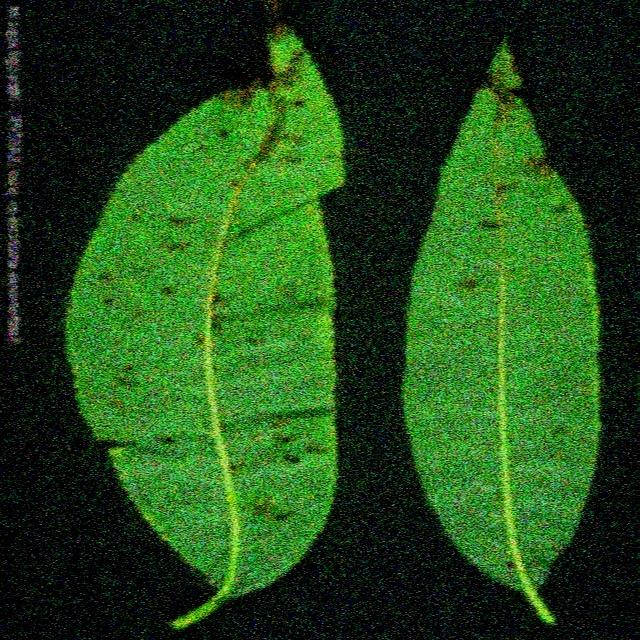shot_hole: (50, 0, 638, 640)
